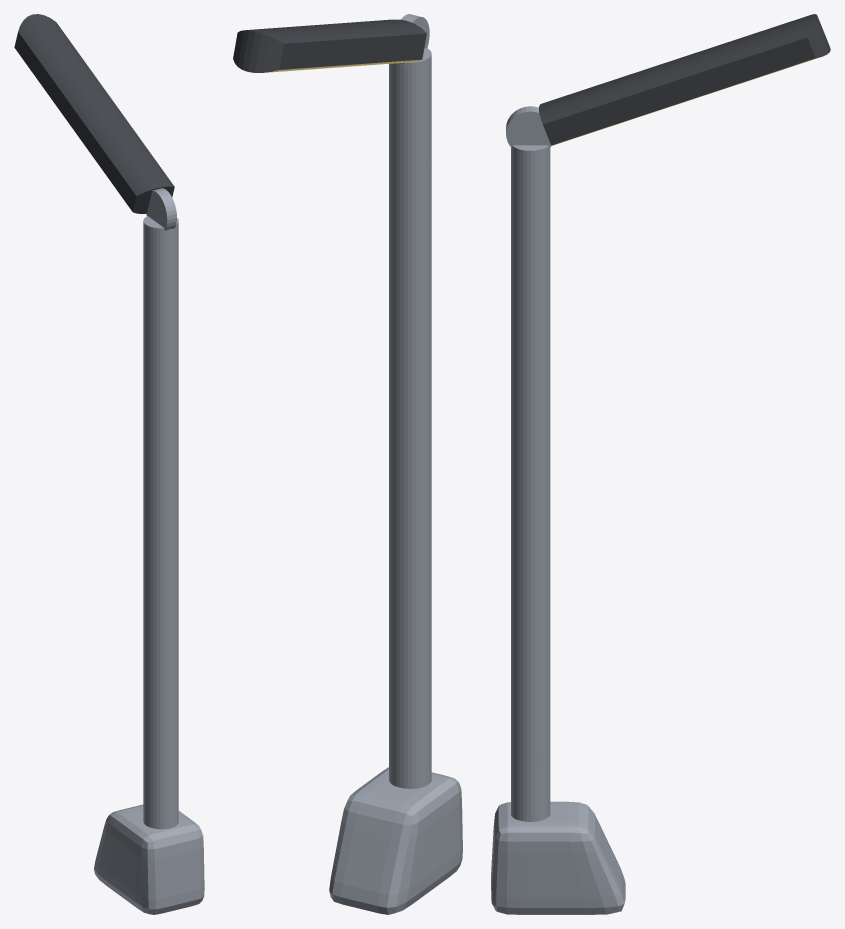
File: Streetlight.fbx
The picture shows the model from 3 angles, left to right: view 1: azimuth 30°, elevation 25°; view 2: azimuth 150°, elevation 25°; view 3: azimuth 270°, elevation 25°; orthographic projection. The views are drawn at different scales.
Visible parts, largest first — view 1: Cube.001; view 2: Cube.001; view 3: Cube.001.
Boxes of the visible parts, box(x1,y1,x2,y2) form: Cube.001: box(14, 14, 204, 914); Cube.001: box(233, 14, 462, 914); Cube.001: box(491, 14, 830, 914).
Size of the model in its own units: 160 by 1981 by 688.
1 material, 1 textured.
